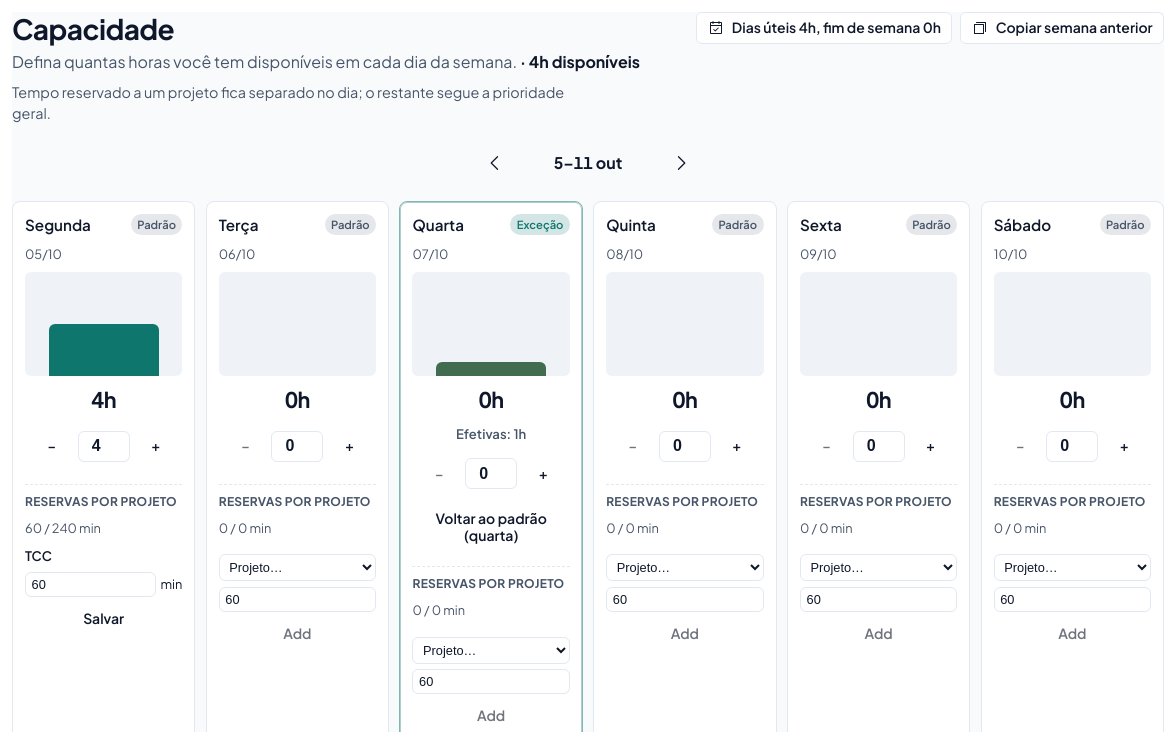
Test: CapacidadePage › T2: Descartar volta aos valores salvos e esconde a barra
The width and height of the screenshot is (1176, 732).
Click the button named "aumentar horas de segunda". click: (156, 446)
box: [134,424,178,468]
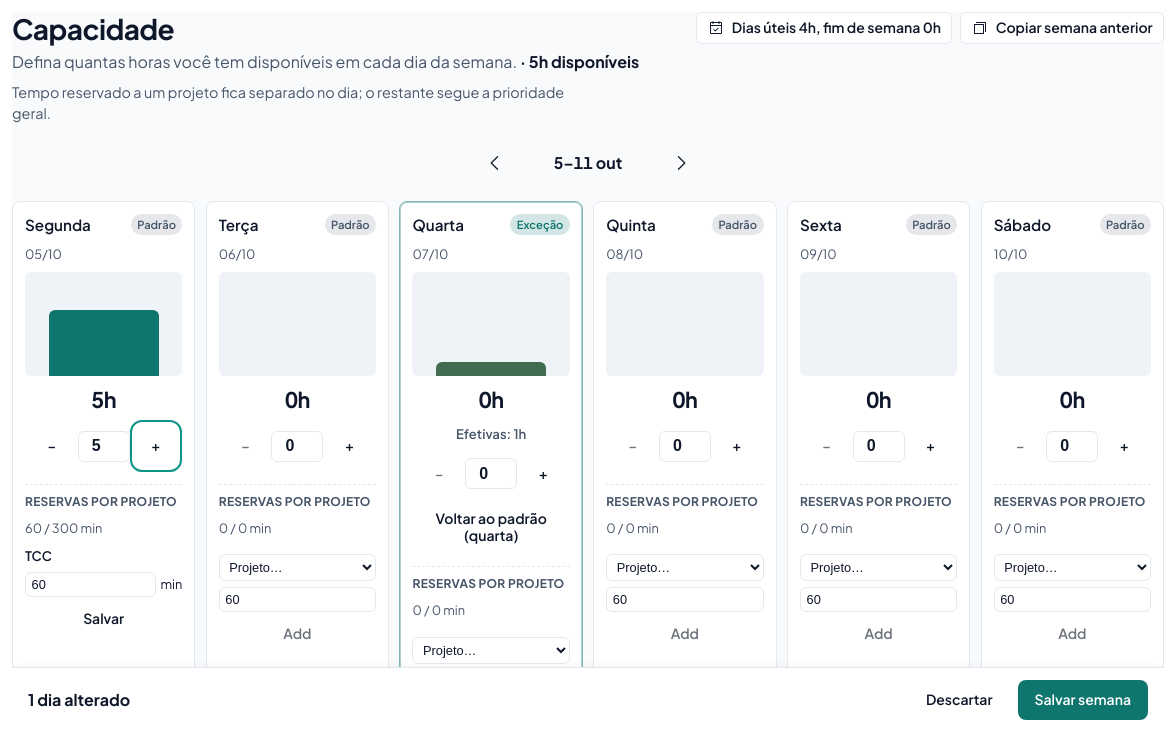
Now the text "1 dia alterado" is shown, box [28,688,130,712]
Click the button "Descartar". click: (959, 700)
box: [909,680,1010,720]
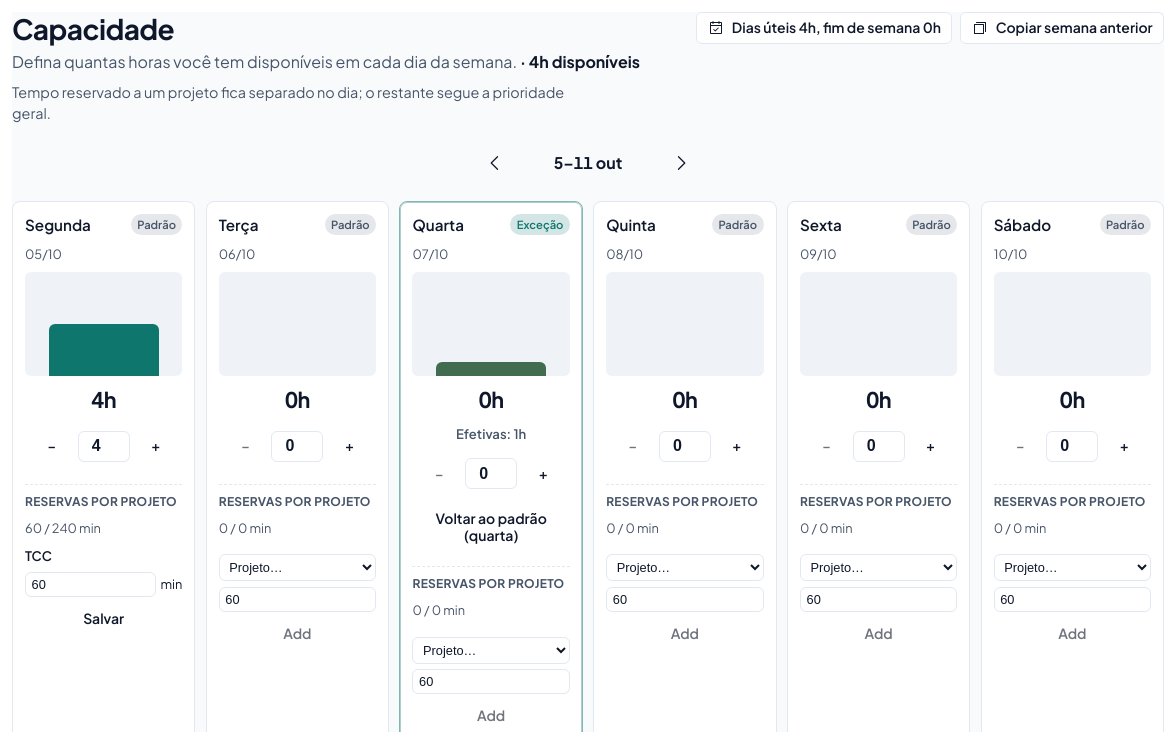
Now the text "dia alterado" is gone
Now the button "Salvar semana" is gone
